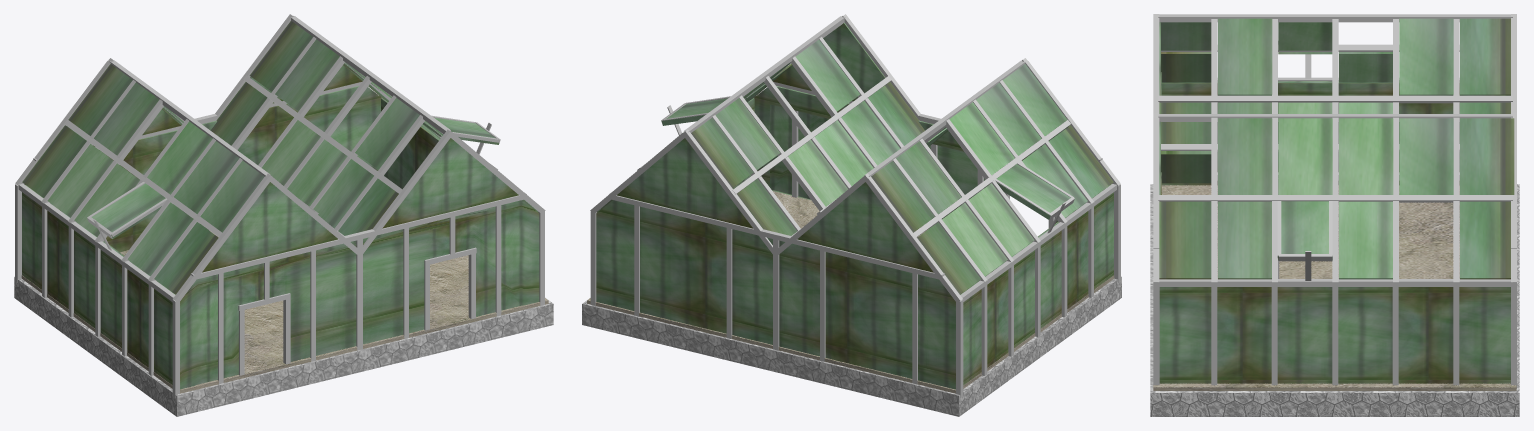
The model's file is siltumnic.FBX.
The picture shows the model from 3 angles, left to right: view 1: azimuth 30°, elevation 25°; view 2: azimuth 150°, elevation 25°; view 3: azimuth 270°, elevation 25°; orthographic projection. The views are drawn at different scales.
Parts seen in each view (by area): view 1: Box18, Box27, Box85, Box01, Box44, Box28, Box29, Box109, Box110, Box108, Box124, Box113 (+54 smaller); view 2: Box44, Box27, Box85, Box35, Box33, Box18, Box01, Box29, Box109, Box108, Box110, Box124 (+51 smaller); view 3: Box55, Box27, Box01, Box116, Box117, Box92, Box94, Box131, Box98, Box97, Box96, Box95 (+44 smaller).
Part boxes in pixels (x1,y1,x2,y2): Box18: [180, 200, 539, 389]; Box27: [14, 276, 553, 416]; Box85: [22, 185, 175, 385]; Box01: [21, 230, 548, 393]; Box44: [24, 86, 381, 252]; Box28: [202, 182, 337, 272]; Box29: [382, 138, 518, 228]; Box109: [147, 121, 212, 194]; Box110: [94, 82, 159, 155]; Box108: [174, 141, 239, 213]; Box124: [47, 144, 113, 217]; Box113: [127, 202, 193, 275]; Box44: [596, 200, 955, 389]; Box27: [582, 276, 1121, 416]; Box85: [960, 185, 1113, 385]; Box35: [797, 182, 933, 272]; Box33: [617, 138, 752, 228]; Box18: [754, 86, 1111, 228]; Box01: [587, 191, 1114, 393]; Box29: [773, 23, 885, 101]; Box109: [949, 102, 1014, 175]; Box108: [976, 83, 1041, 155]; Box110: [896, 141, 961, 214]; Box124: [942, 203, 1007, 276]; Box55: [1159, 287, 1510, 383]; Box27: [1150, 184, 1519, 416]; Box01: [1153, 185, 1516, 390]; Box116: [1399, 18, 1453, 95]; Box117: [1218, 18, 1272, 95]; Box92: [1218, 201, 1271, 279]; Box94: [1339, 201, 1392, 279]; Box131: [1339, 118, 1393, 194]; Box98: [1460, 118, 1514, 194]; Box97: [1278, 118, 1332, 194]; Box96: [1218, 118, 1272, 194]; Box95: [1399, 118, 1453, 194].
Bounding box in the file's own units: 429 × 225 × 305.
